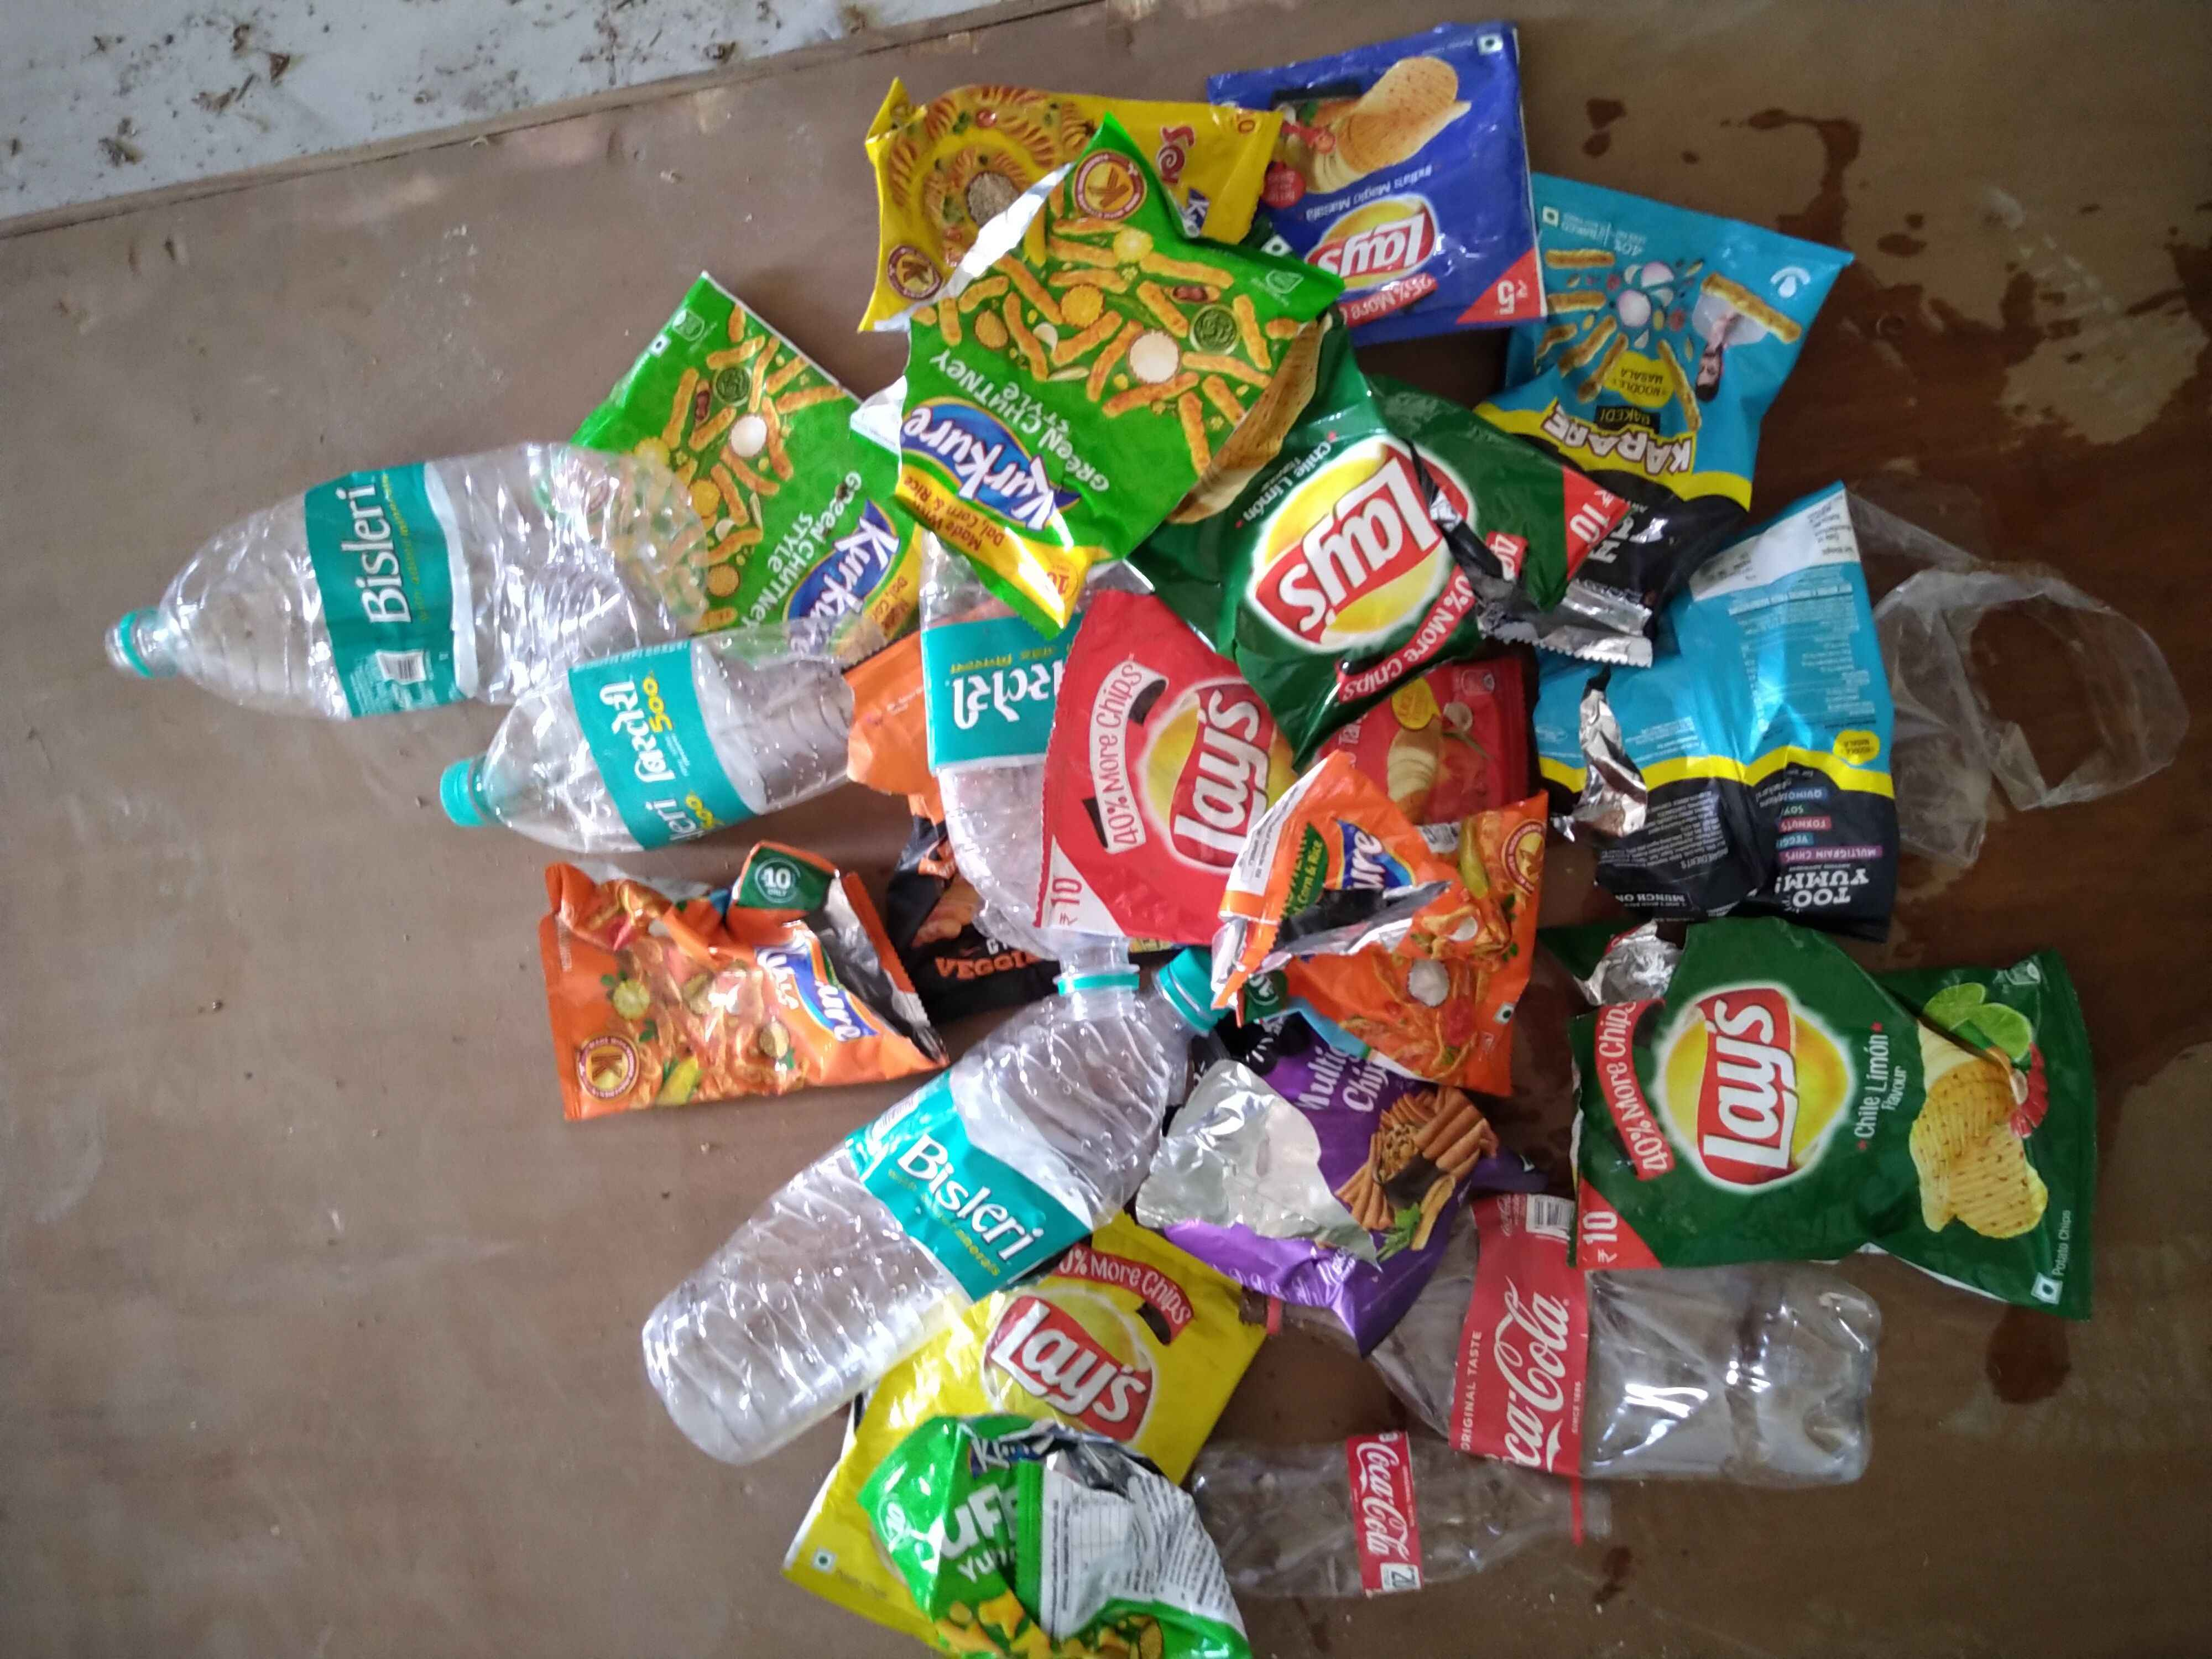Bisleri: (329, 467, 460, 695), (596, 657, 733, 840), (900, 1122, 1062, 1277), (937, 634, 1085, 763)
Coca-Cola: (1482, 1241, 1578, 1471), (1362, 1436, 1418, 1596)
Lays: (1237, 436, 1487, 662), (1646, 965, 1878, 1195), (981, 1281, 1179, 1452), (1130, 683, 1287, 863), (1305, 195, 1454, 275)
kurkure: (904, 380, 1099, 559), (782, 498, 907, 660), (768, 911, 892, 1053), (1329, 816, 1435, 964), (960, 1439, 1076, 1467), (1176, 174, 1216, 232)
tooyumm: (1766, 854, 1881, 913), (1594, 504, 1679, 577), (1244, 1021, 1299, 1066)
